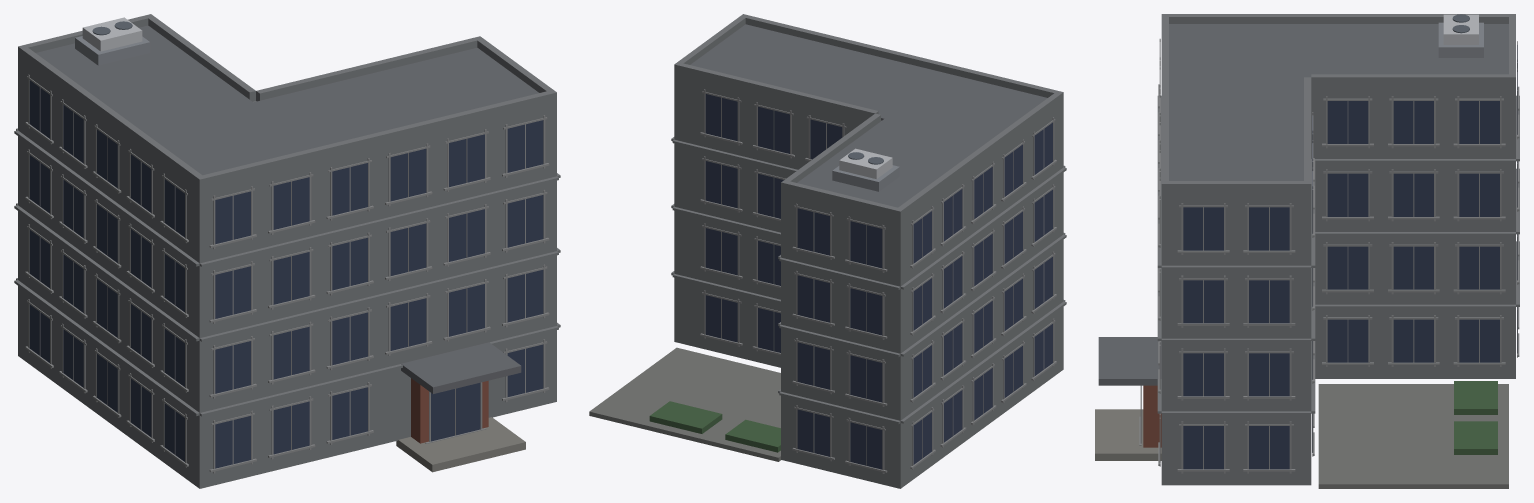
The model's file is civic_corner_06x03_lvl1.glb.
3 views of the same model, side by side, from view 1: azimuth 30°, elevation 25°; view 2: azimuth 150°, elevation 25°; view 3: azimuth 270°, elevation 25° (orthographic). The views are drawn at different scales.
Visible parts, largest first — view 1: civic_corner_06x03; view 2: civic_corner_06x03; view 3: civic_corner_06x03.
Boxes of the visible parts, <box> form: civic_corner_06x03: <box>14,14,560,488</box>; civic_corner_06x03: <box>589,14,1066,488</box>; civic_corner_06x03: <box>1095,14,1519,488</box>.
Bounding box in the file's own units: 0.9643 × 0.8581 × 1.
